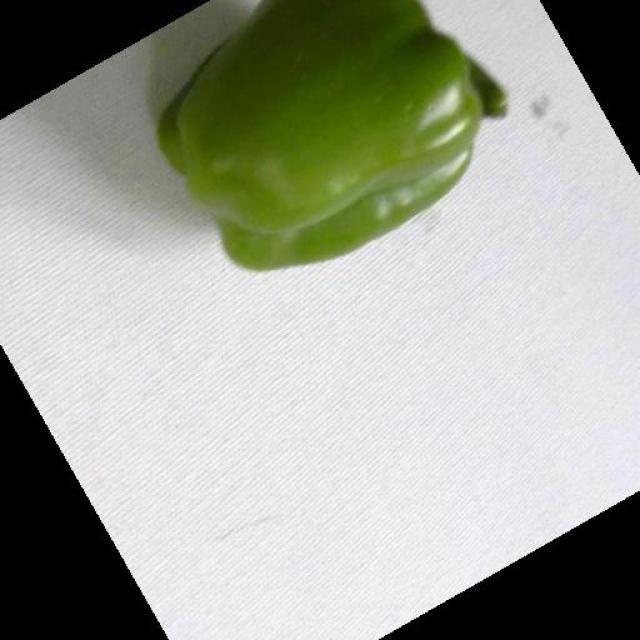Fresh_Capsicum: (186, 0, 510, 257)
